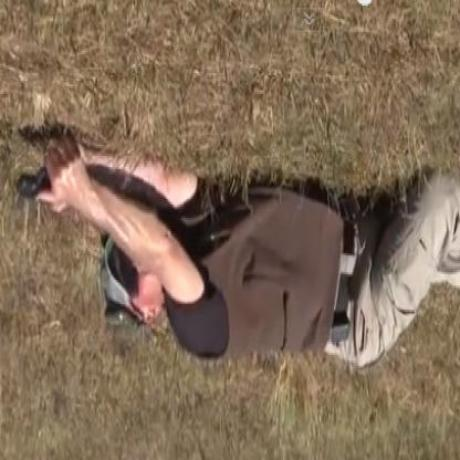1: (0, 154, 460, 368)
weapon: (15, 157, 66, 203)
